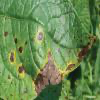Potato leaf early blight: (1, 0, 98, 99)
